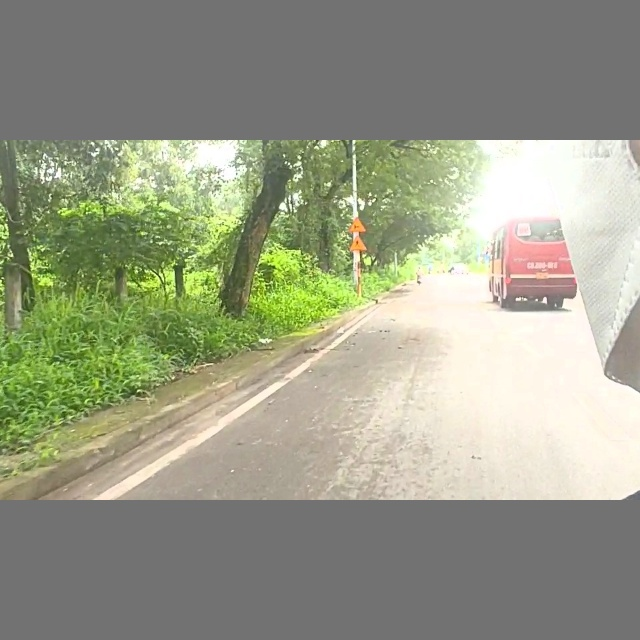W.205c: (347, 217, 367, 235)
W.224: (348, 235, 365, 252)
